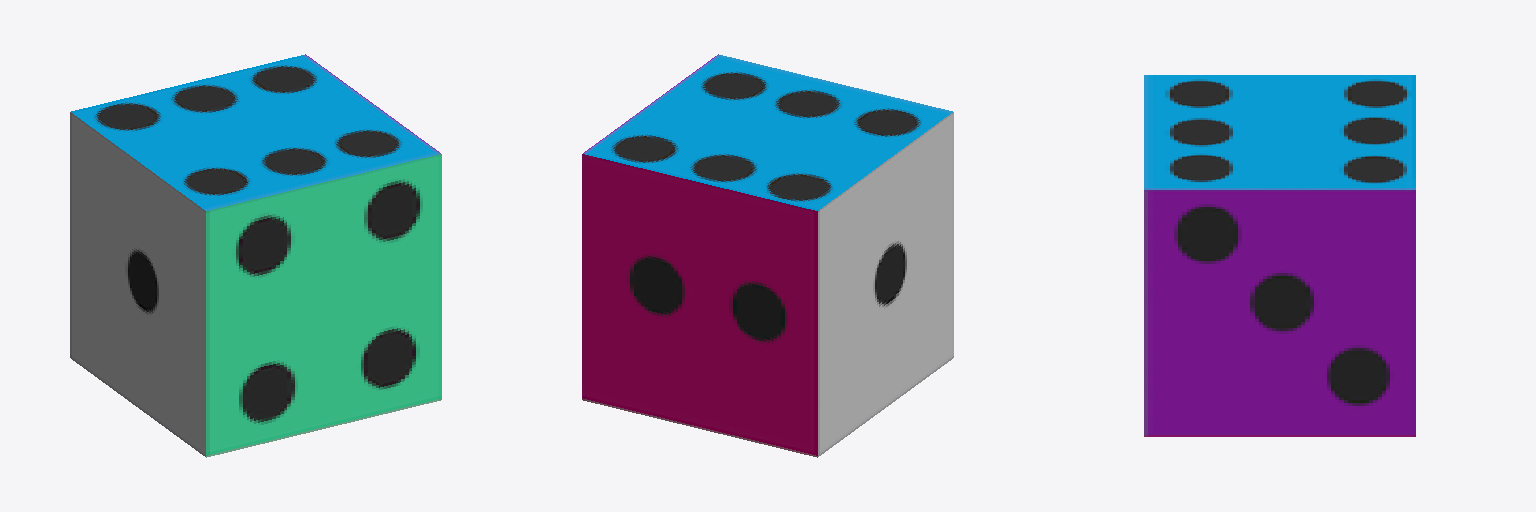
3 views of the same model, side by side, from view 1: azimuth 30°, elevation 25°; view 2: azimuth 150°, elevation 25°; view 3: azimuth 270°, elevation 25° (orthographic).
Visible parts, largest first — view 1: Cube; view 2: Cube; view 3: Cube.
Boxes of the visible parts, <box> form: Cube: <box>70,54,441,457</box>; Cube: <box>582,54,953,457</box>; Cube: <box>1144,75,1415,436</box>.
Size of the model in its own units: 2 by 2 by 2.
1 materials, 1 textured.